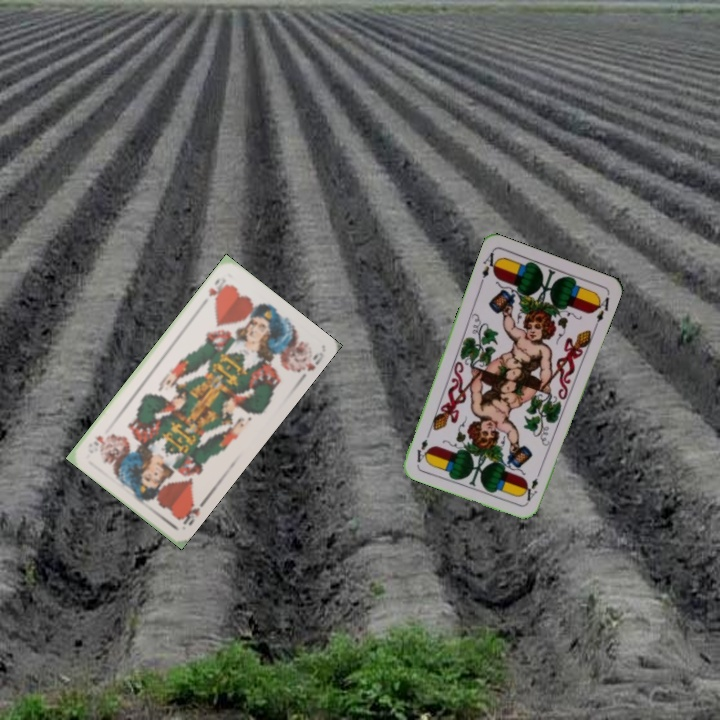EA: (476, 247, 501, 287), (523, 474, 541, 505)
HO: (175, 496, 209, 529), (204, 274, 230, 303)
